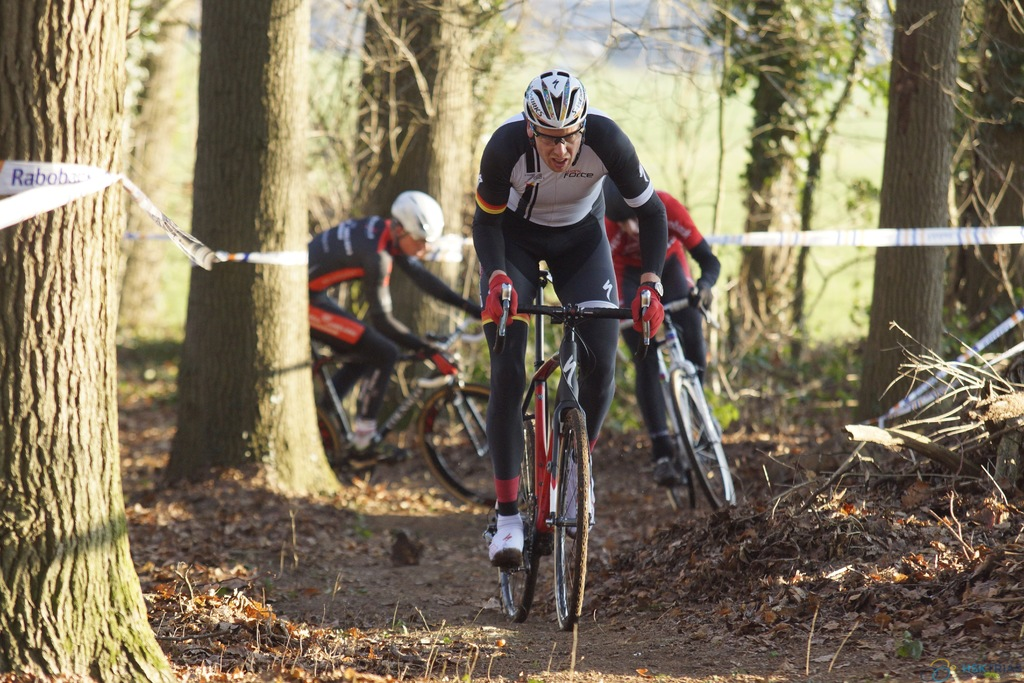Tree: (113, 0, 1023, 435), (0, 0, 174, 682), (161, 0, 341, 485), (849, 0, 960, 435)
